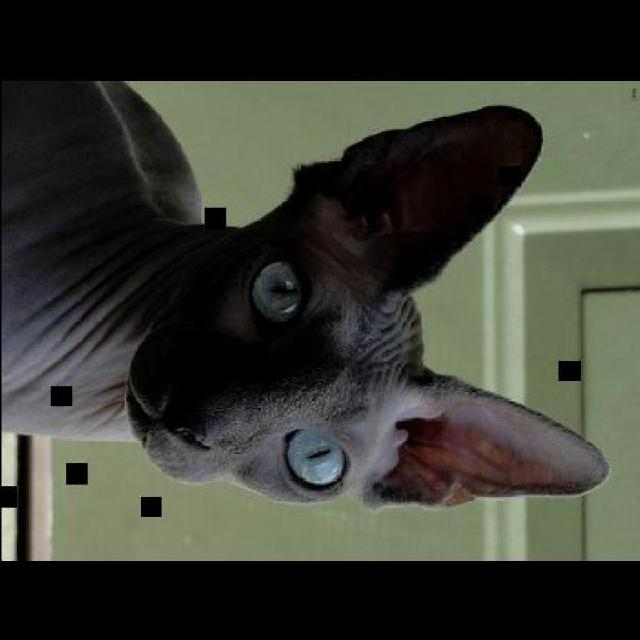unauthorized: (0, 77, 611, 511)
